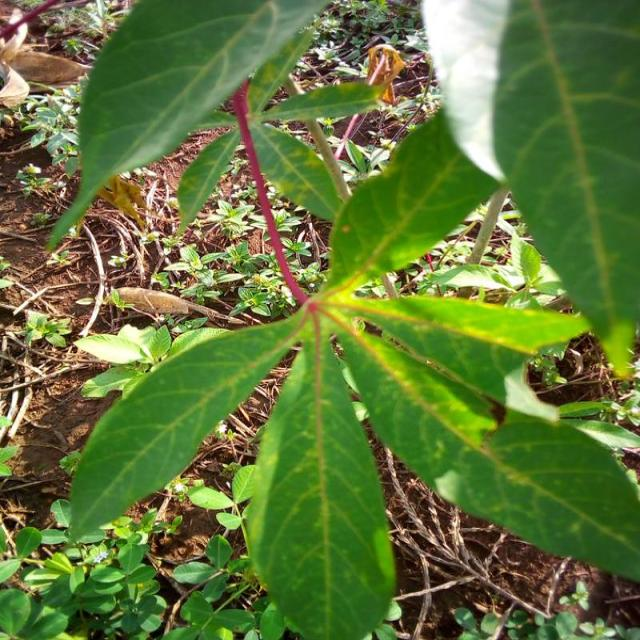cassava leaf: (58, 1, 638, 637), (332, 294, 638, 584), (45, 0, 331, 253), (67, 307, 306, 545), (245, 313, 397, 638), (322, 105, 502, 296)
